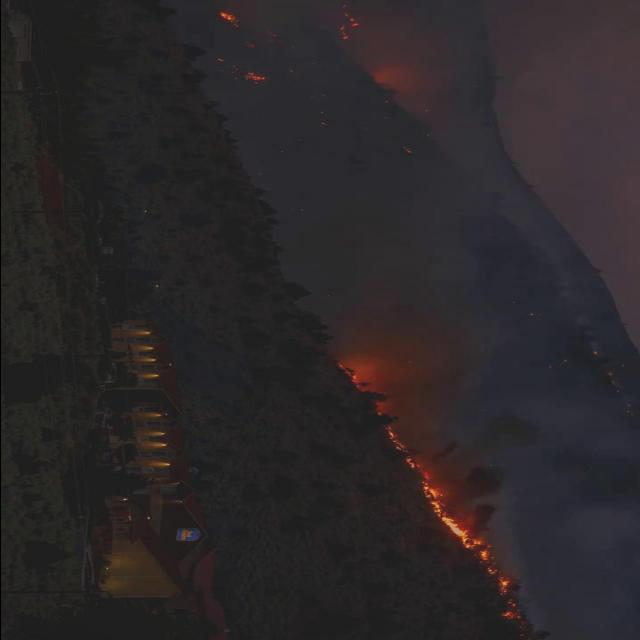Fire: (420, 484, 482, 547), (338, 363, 363, 387), (388, 429, 408, 453), (242, 72, 268, 82), (495, 579, 511, 595), (212, 12, 235, 22), (502, 612, 526, 620), (337, 26, 349, 38), (480, 547, 492, 559), (406, 457, 418, 467), (351, 18, 361, 28)
